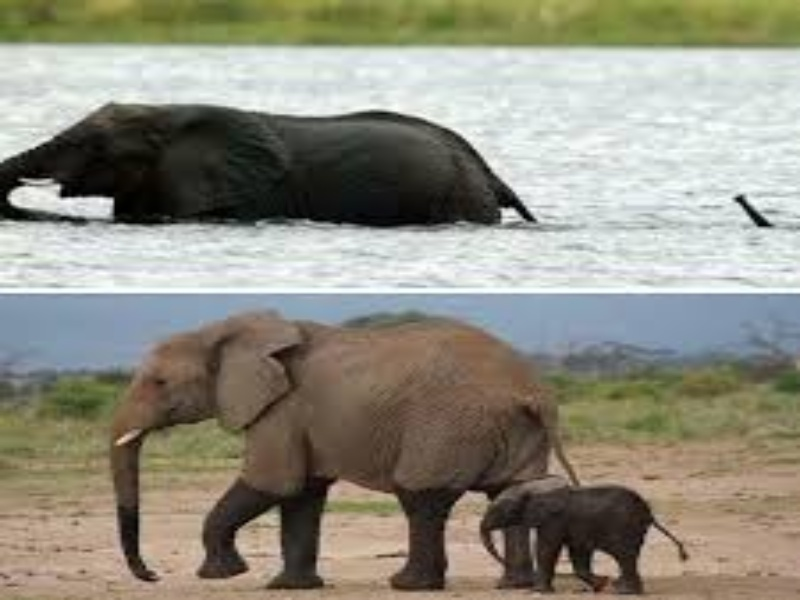elephant: (100, 313, 465, 591), (19, 88, 533, 242), (475, 477, 699, 596)
